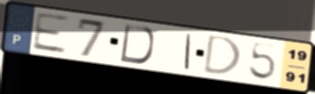5: (245, 40, 279, 82)
7: (75, 16, 107, 59)
D: (201, 33, 244, 77), (118, 22, 156, 65)
E: (30, 10, 71, 55)
I: (183, 32, 195, 72)
